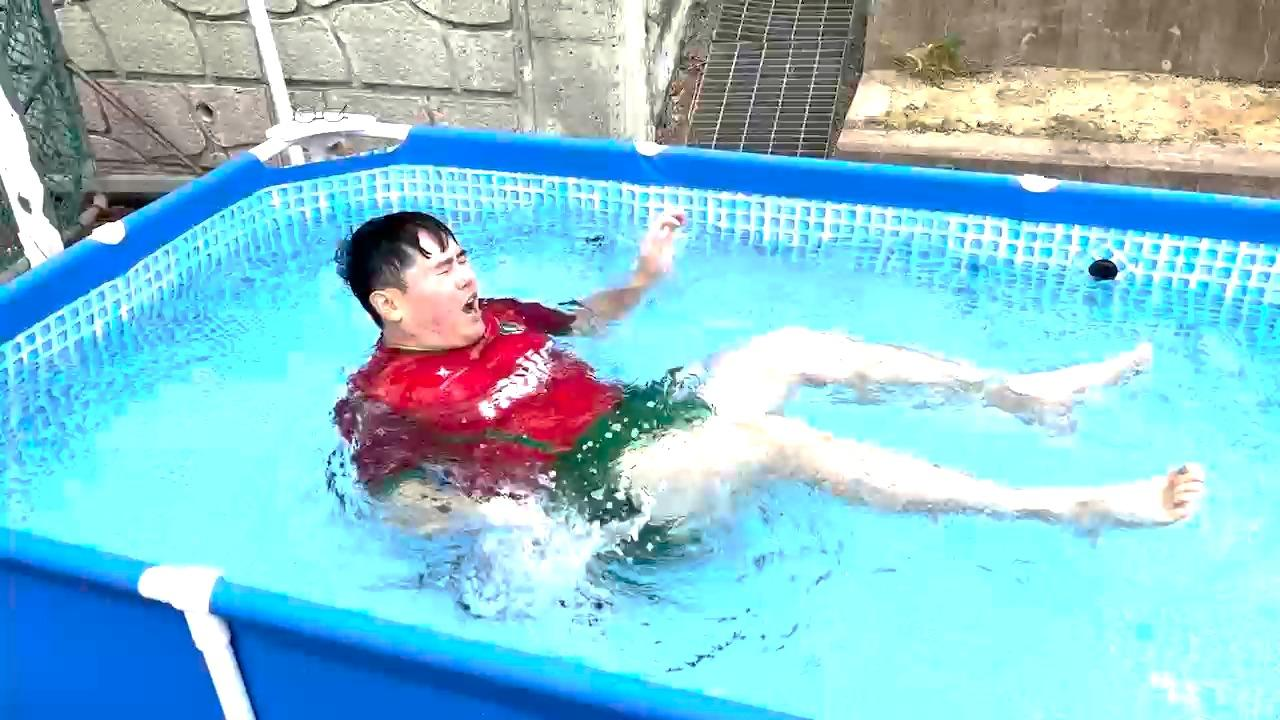Drowning: (279, 155, 1243, 618)
